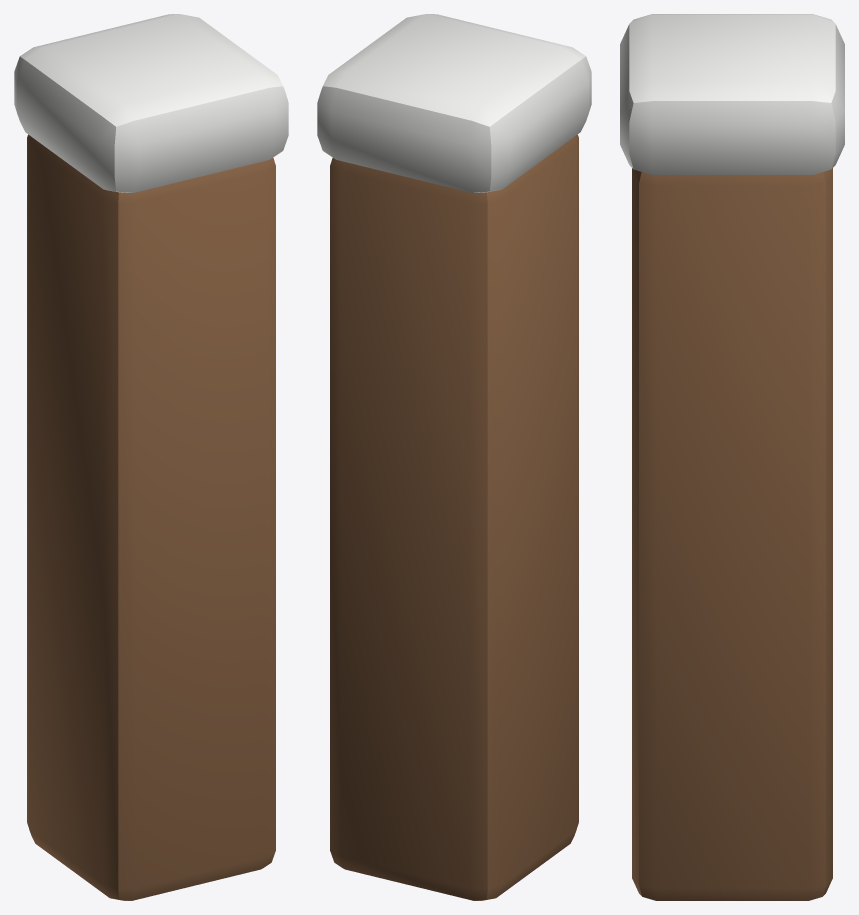
Rendered from YardagePost.fbx.
3 views of the same model, side by side, from view 1: azimuth 30°, elevation 25°; view 2: azimuth 150°, elevation 25°; view 3: azimuth 270°, elevation 25° (orthographic). The views are drawn at different scales.
Visible parts, largest first — view 1: YardagePost; view 2: YardagePost; view 3: YardagePost.
Part boxes in pixels (bbox=[...]): YardagePost: bbox=[14, 14, 288, 900]; YardagePost: bbox=[317, 14, 591, 900]; YardagePost: bbox=[620, 14, 844, 900].
Size of the model in its own units: 0.112 by 0.45 by 0.112.
